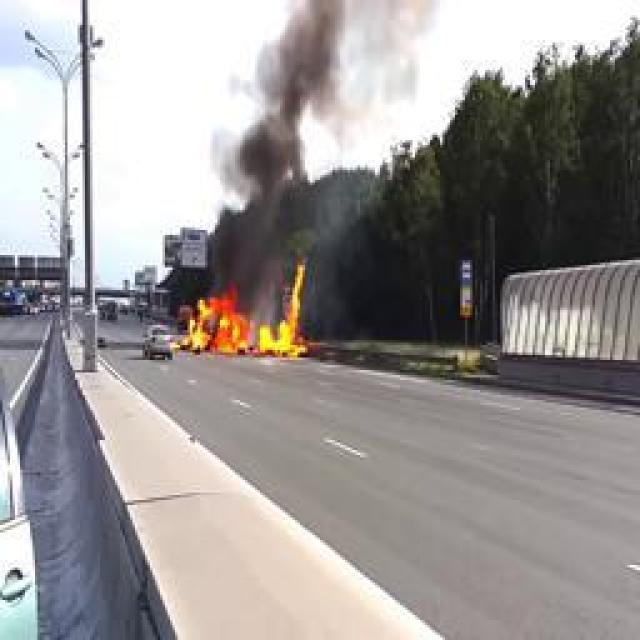Fire: (184, 260, 308, 355)
